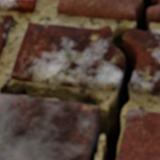brick: (0, 94, 99, 159), (116, 109, 159, 159), (0, 15, 13, 56), (0, 0, 37, 13)
broken_brick: (11, 24, 124, 91), (123, 30, 159, 97), (57, 0, 141, 21), (146, 4, 159, 23)
crack: (0, 0, 159, 159), (49, 65, 71, 78), (73, 55, 88, 63), (82, 124, 91, 130)
